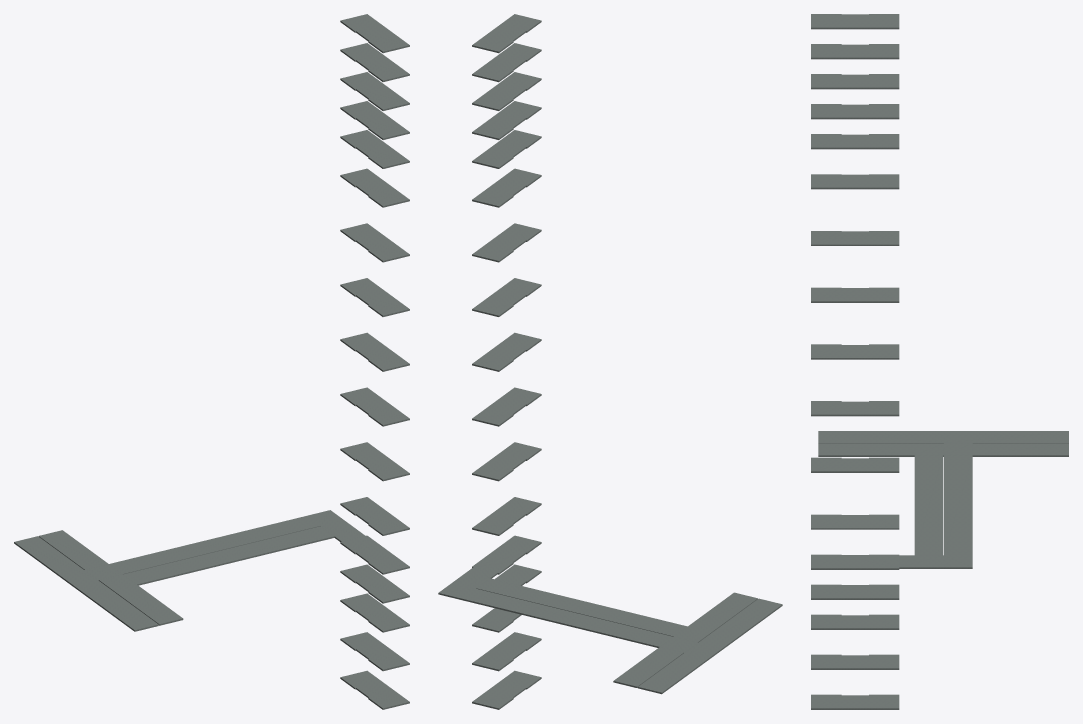
Rendered from AST-STF-G3-030.glb.
3 views of the same model, side by side, from view 1: azimuth 30°, elevation 25°; view 2: azimuth 150°, elevation 25°; view 3: azimuth 270°, elevation 25° (orthographic). The views are drawn at different scales.
Parts seen in each view (by area): view 1: floor_staff_floor_D05, floor_staff_floor_D04, floor_staff_floor_D08, floor_staff_floor_D03, floor_staff_floor_D09, floor_staff_floor_D11, floor_staff_floor_D01, floor_staff_floor_D07, floor_staff_floor_D10, floor_staff_floor_D12, floor_staff_floor_D13, floor_staff_floor_D14 (+5 smaller); view 2: floor_staff_floor_D05, floor_staff_floor_D08, floor_staff_floor_D11, floor_staff_floor_D12, floor_staff_floor_D14, floor_staff_floor_D01, floor_staff_floor_D06, floor_staff_floor_D07, floor_staff_floor_D09, floor_staff_floor_D10, floor_staff_floor_D13, floor_staff_floor_D15 (+5 smaller); view 3: floor_staff_floor_D05, floor_staff_floor_D08, floor_staff_floor_D12, floor_staff_floor_D13, floor_staff_floor_D14, floor_staff_floor_D15, floor_staff_floor_D16, floor_staff_floor_D17, floor_staff_floor_D09, floor_staff_floor_D01, floor_staff_floor_D02, floor_staff_floor_D03 (+5 smaller).
Part boxes in pixels (bbox=[...]): floor_staff_floor_D05: bbox=[14, 510, 409, 631]; floor_staff_floor_D04: bbox=[340, 564, 409, 603]; floor_staff_floor_D08: bbox=[340, 387, 409, 426]; floor_staff_floor_D03: bbox=[340, 593, 409, 632]; floor_staff_floor_D09: bbox=[340, 332, 409, 371]; floor_staff_floor_D11: bbox=[340, 223, 409, 262]; floor_staff_floor_D01: bbox=[340, 670, 409, 709]; floor_staff_floor_D07: bbox=[340, 442, 409, 481]; floor_staff_floor_D10: bbox=[340, 278, 409, 316]; floor_staff_floor_D12: bbox=[340, 168, 409, 207]; floor_staff_floor_D13: bbox=[340, 130, 409, 168]; floor_staff_floor_D14: bbox=[340, 101, 409, 139]; floor_staff_floor_D05: bbox=[438, 535, 782, 694]; floor_staff_floor_D08: bbox=[472, 387, 541, 426]; floor_staff_floor_D11: bbox=[472, 223, 541, 262]; floor_staff_floor_D12: bbox=[472, 168, 541, 207]; floor_staff_floor_D14: bbox=[472, 101, 541, 139]; floor_staff_floor_D01: bbox=[472, 670, 541, 709]; floor_staff_floor_D06: bbox=[472, 497, 541, 535]; floor_staff_floor_D07: bbox=[472, 442, 541, 481]; floor_staff_floor_D09: bbox=[472, 332, 541, 371]; floor_staff_floor_D10: bbox=[472, 278, 541, 316]; floor_staff_floor_D13: bbox=[472, 130, 541, 168]; floor_staff_floor_D15: bbox=[472, 72, 541, 110]; floor_staff_floor_D05: bbox=[811, 431, 1068, 569]; floor_staff_floor_D08: bbox=[811, 401, 899, 416]; floor_staff_floor_D12: bbox=[811, 174, 899, 189]; floor_staff_floor_D13: bbox=[811, 134, 899, 149]; floor_staff_floor_D14: bbox=[811, 104, 899, 119]; floor_staff_floor_D15: bbox=[811, 74, 899, 89]; floor_staff_floor_D16: bbox=[811, 44, 899, 59]; floor_staff_floor_D17: bbox=[811, 14, 899, 29]; floor_staff_floor_D09: bbox=[811, 344, 899, 359]; floor_staff_floor_D01: bbox=[811, 694, 899, 709]; floor_staff_floor_D02: bbox=[811, 654, 899, 669]; floor_staff_floor_D03: bbox=[811, 614, 899, 629].
Size of the model in its own units: 44.14 by 102 by 35.
Materials: 1 (1 with a texture image).
